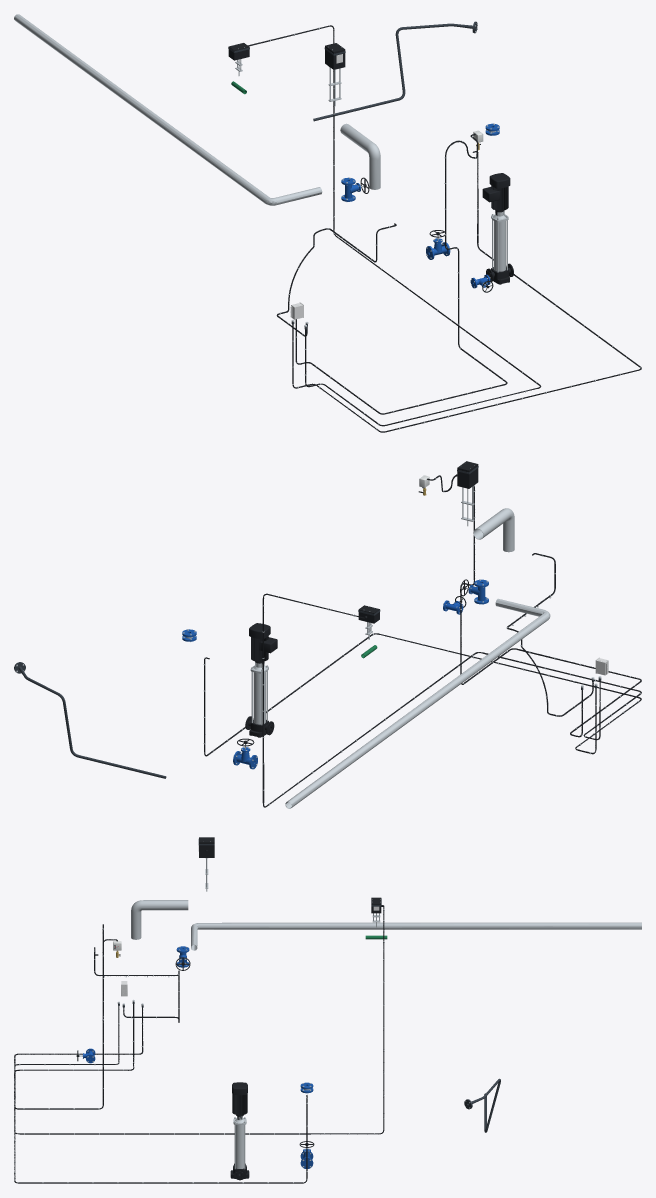
3 renders of one model, top to bottom at view 1: azimuth 30°, elevation 25°; view 2: azimuth 150°, elevation 25°; view 3: azimuth 270°, elevation 25°, orthographic. The views are drawn at different scales.
Parts seen in each view (by area): view 1: safety_vent_1 / steel, mod_direct_drive_cable / black, wiring_pump_2 / black, wiring_pressure_transmitter / black, steam_rise / steel, tds_without_fv / dark, pump_1 CAD solid 15, pump_1 CAD solid 2; view 2: safety_vent_1 / steel, mod_direct_drive_cable / black, wiring_pump_2 / black, wiring_pressure_transmitter / black, steam_rise / steel, tds_without_fv / dark, pump_1 CAD solid 15, pump_1 CAD solid 2, wiring_low_level_2 / black, gpz_drive / black; view 3: safety_vent_1 / steel, mod_direct_drive_cable / black, wiring_pump_2 / black, wiring_pressure_transmitter / black, steam_rise / steel, pump_1 CAD solid 15.
Boxes of the visible parts, <box> form: safety_vent_1 / steel: <box>14,14,322,205</box>; mod_direct_drive_cable / black: <box>248,25,541,426</box>; wiring_pump_2 / black: <box>292,151,641,432</box>; wiring_pressure_transmitter / black: <box>295,134,507,414</box>; steam_rise / steel: <box>340,123,380,189</box>; tds_without_fv / dark: <box>313,21,477,121</box>; pump_1 CAD solid 15: <box>482,173,510,211</box>; pump_1 CAD solid 2: <box>494,221,505,271</box>; safety_vent_1 / steel: <box>285,598,550,808</box>; mod_direct_drive_cable / black: <box>262,593,641,807</box>; wiring_pump_2 / black: <box>204,633,641,756</box>; wiring_pressure_transmitter / black: <box>427,474,641,737</box>; steam_rise / steel: <box>473,508,514,552</box>; tds_without_fv / dark: <box>14,662,166,778</box>; pump_1 CAD solid 15: <box>249,623,277,662</box>; pump_1 CAD solid 2: <box>253,672,265,724</box>; wiring_low_level_2 / black: <box>507,553,593,716</box>; gpz_drive / black: <box>457,461,478,488</box>; safety_vent_1 / steel: <box>191,922,641,950</box>; mod_direct_drive_cable / black: <box>14,906,384,1134</box>; wiring_pump_2 / black: <box>14,1004,307,1183</box>; wiring_pressure_transmitter / black: <box>14,924,143,1109</box>; steam_rise / steel: <box>131,900,188,939</box>; pump_1 CAD solid 15: <box>232,1082,247,1115</box>.
Bounding box in the file's own units: 4.37 × 3.19 × 7.03.
